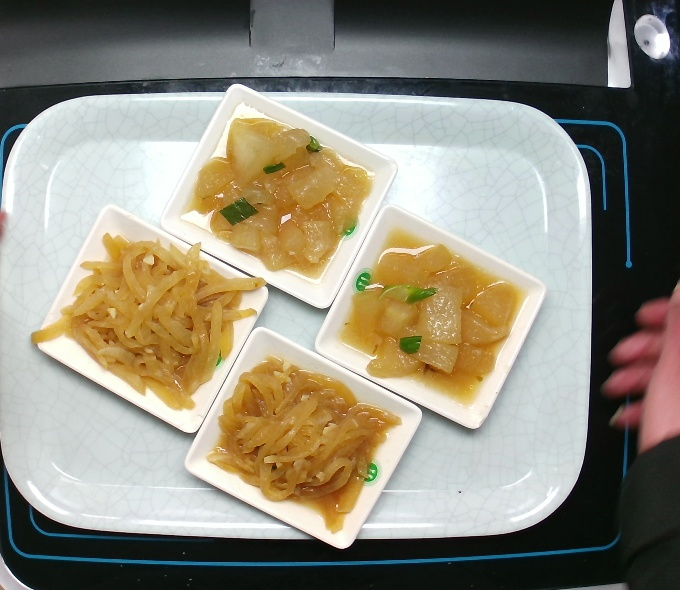wcq-DongGua: (172, 96, 382, 288), (324, 219, 530, 412)
wcq-LuoBoSi: (26, 228, 269, 414), (201, 350, 406, 539)
